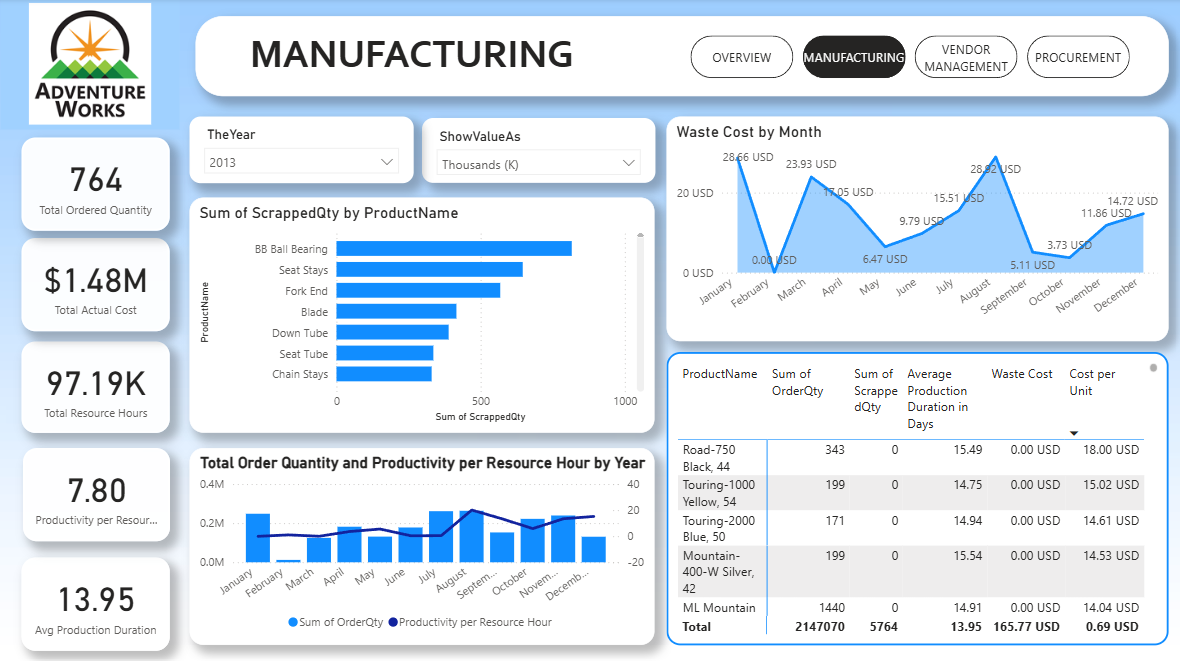

The page's visual inventory and layout, read from the dashboard file:
{"tool":"powerbi","page":{"name":"MANUFACTURING","canvas":[1280,720],"ordinal":1},"visuals":[{"type":"card","fields":{"Values":["DAX.Total Resource Hours"]},"box":[24.3,370.8,160.3,98.8],"z":0},{"type":"card","fields":{"Values":["DAX.Total Actual Cost"]},"box":[24.3,259.1,160.3,100.4],"z":1000},{"type":"card","fields":{"Values":["DAX.Avg Production Duration"]},"box":[24.3,604,160.3,100.4],"z":2000},{"type":"card","fields":{"Values":["DAX.Productivity per Resource Hour"]},"box":[25.9,485.8,158.7,100.4],"z":3000},{"type":"textbox","box":[211.7,18.9,1050.7,86.9],"z":4000},{"type":"slicer","fields":{"Values":["DimConfigUnit.ShowValueAs"]},"box":[457.3,130,251.8,70],"z":5000},{"type":"slicer","fields":{"Values":["Galaxy DimTime.TheYear"]},"box":[205.5,128.2,241.8,71.8],"z":6000},{"type":"card","fields":{"Values":["DAX.Total Ordered Quantity"]},"box":[24.3,150.6,160.3,100.4],"z":7000},{"type":"image","box":[1.8,0,193.6,141.8],"z":8000},{"type":"pageNavigator","box":[746.7,40,476.7,46.7],"z":9000},{"type":"barChart","fields":{"Category":["DimProduct.ProductName"],"Y":["Sum(FactWorkOrder.ScrappedQty)"]},"box":[205.8,215.4,502.2,253.9],"z":10000},{"type":"areaChart","fields":{"Y":["DAX.Waste Cost"],"Category":["DimTime.FullDate.Variation.Date Hierarchy.Month"]},"box":[720.4,127.6,542,242.9],"z":11000},{"type":"lineStackedColumnComboChart","title":"Total Order Quantity and Productivity per Resource Hour by Year","fields":{"Y2":["DAX.Productivity per Resource Hour"],"Y":["Sum(FactWorkOrder.OrderQty)"],"Category":["DimTime.FullDate.Variation.Date Hierarchy.Month"]},"box":[205.8,485.8,502.2,212.7],"z":12000},{"type":"pivotTable","fields":{"Values":["Sum(FactWorkOrder.OrderQty)","Sum(FactWorkOrder.ScrappedQty)","DAX.Avg Production Duration","DAX.Waste Cost","DAX.Cost per Unit"],"Rows":["DimProduct.ProductName"]},"box":[720.4,381.5,542,317],"z":13000}]}

Visuals, with their boxes in screenshot pixels (x1, y1, x2, y2), scaled from the page's 1280x720 canvas onto the 1180x661 screenshot:
card - DAX.Total Resource Hours: [x1=22, y1=340, x2=170, y2=431]
card - DAX.Total Actual Cost: [x1=22, y1=238, x2=170, y2=330]
card - DAX.Avg Production Duration: [x1=22, y1=555, x2=170, y2=647]
card - DAX.Productivity per Resource Hour: [x1=24, y1=446, x2=170, y2=538]
textbox: [x1=195, y1=17, x2=1164, y2=97]
slicer - DimConfigUnit.ShowValueAs: [x1=422, y1=119, x2=654, y2=184]
slicer - Galaxy DimTime.TheYear: [x1=189, y1=118, x2=412, y2=184]
card - DAX.Total Ordered Quantity: [x1=22, y1=138, x2=170, y2=230]
image: [x1=2, y1=0, x2=180, y2=130]
pageNavigator: [x1=688, y1=37, x2=1128, y2=80]
barChart - DimProduct.ProductName x Sum(FactWorkOrder.ScrappedQty): [x1=190, y1=198, x2=653, y2=431]
areaChart - DAX.Waste Cost x DimTime.FullDate.Variation.Date Hierarchy.Month: [x1=664, y1=117, x2=1164, y2=340]
"Total Order Quantity and Productivity per Resource Hour by Year" lineStackedColumnComboChart: [x1=190, y1=446, x2=653, y2=641]
pivotTable - Sum(FactWorkOrder.OrderQty) x Sum(FactWorkOrder.ScrappedQty): [x1=664, y1=350, x2=1164, y2=641]
